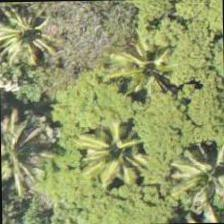Kelapa_Sawit: (76, 100, 168, 192), (108, 23, 200, 114), (0, 1, 71, 78), (0, 108, 59, 200), (165, 126, 223, 219)
